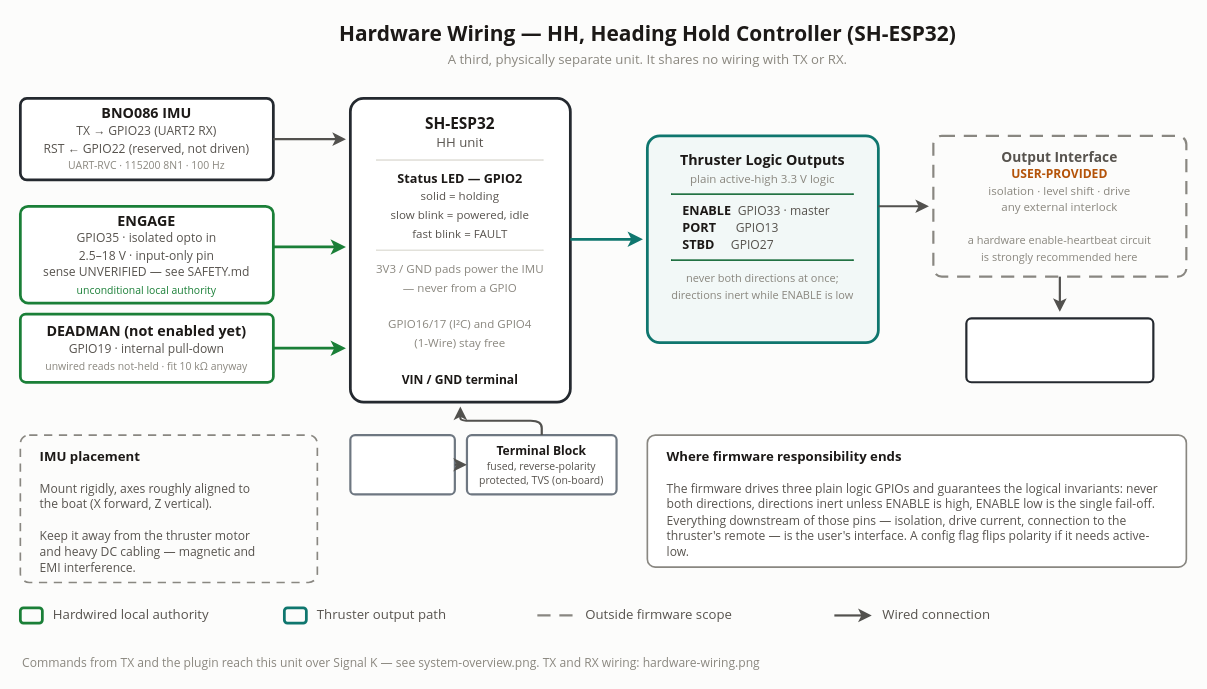
This 1207x689 diagram has some shape labels left out. Each missing label, with the centre of its shape:
"Boat DC 8–32 V system" goes at pixel 402 464.
"Thruster Control Box own ~1.75 s reversal interlock" goes at pixel 1059 350.
